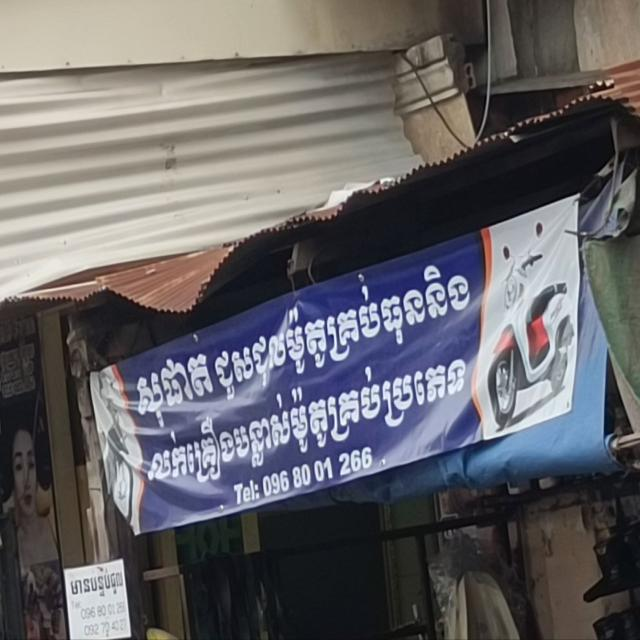1: (127, 247, 480, 439)
Yolov11_80vkh: (140, 336, 470, 501), (64, 561, 128, 603)
